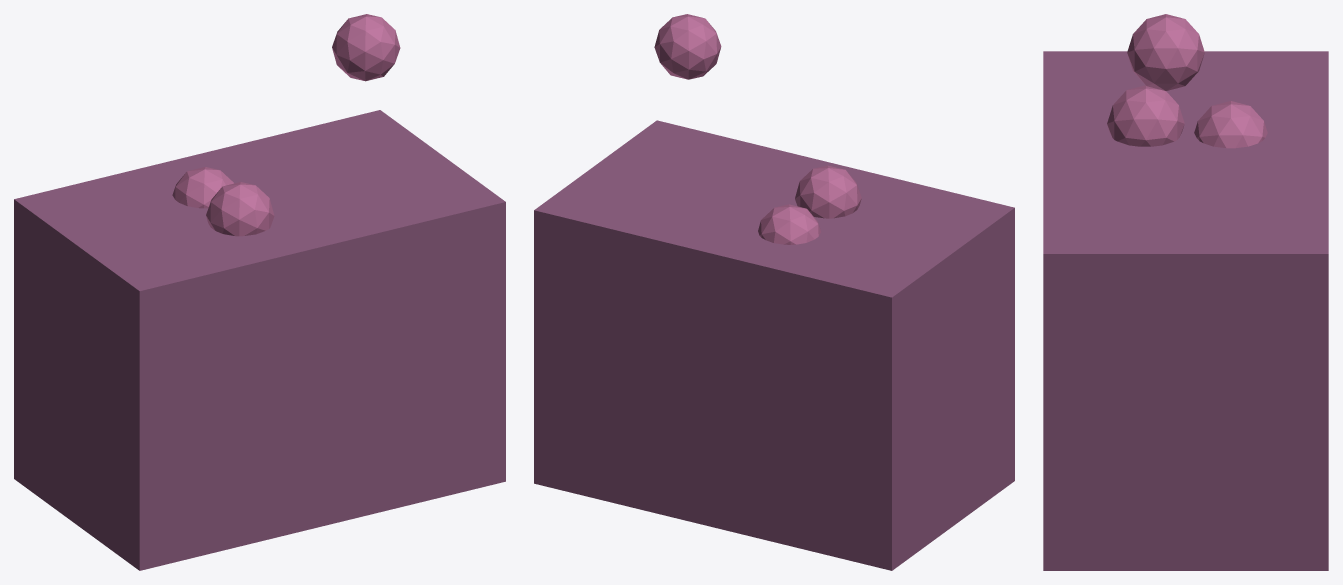
Rendered from nightmare_wraith.glb.
3 views of the same model, side by side, from view 1: azimuth 30°, elevation 25°; view 2: azimuth 150°, elevation 25°; view 3: azimuth 270°, elevation 25° (orthographic). The views are drawn at different scales.
Parts seen in each view (by area): view 1: geometry_0; view 2: geometry_0; view 3: geometry_0.
Boxes of the visible parts, x1,y1,x2,y2 form: geometry_0: [14, 14, 505, 570]; geometry_0: [534, 14, 1014, 570]; geometry_0: [1043, 14, 1328, 570].
Bounding box in the file's own units: 0.74 × 0.8618 × 0.44.
